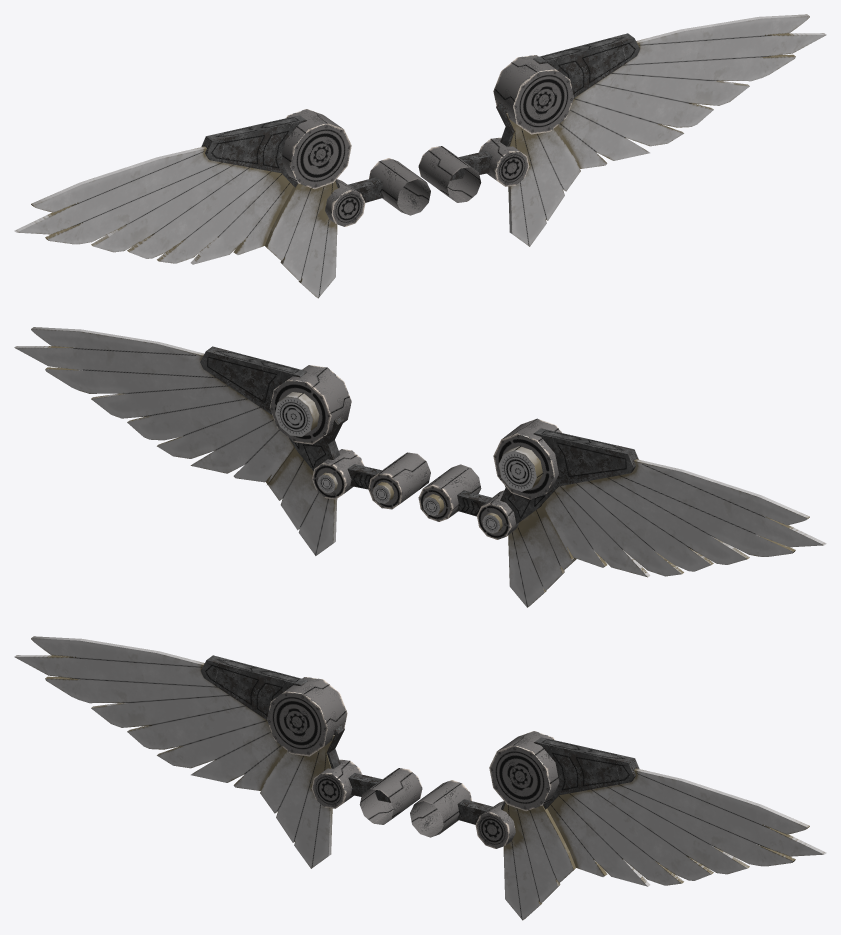
File: BACK_WINGS.fbx
3 views of the same model, one above another, from view 1: azimuth 30°, elevation 25°; view 2: azimuth 150°, elevation 25°; view 3: azimuth 330°, elevation 25° (orthographic).
Parts seen in each view (by area): view 1: BACK_WINGS; view 2: BACK_WINGS; view 3: BACK_WINGS.
Part boxes in pixels (x1,y1,x2,y2): BACK_WINGS: [14, 14, 826, 298]; BACK_WINGS: [14, 327, 826, 607]; BACK_WINGS: [14, 636, 826, 920].
Bounding box in the file's own units: 0.1859 × 0.0401 × 0.0132.
